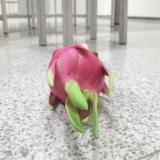pitaya: (47, 43, 111, 112)
